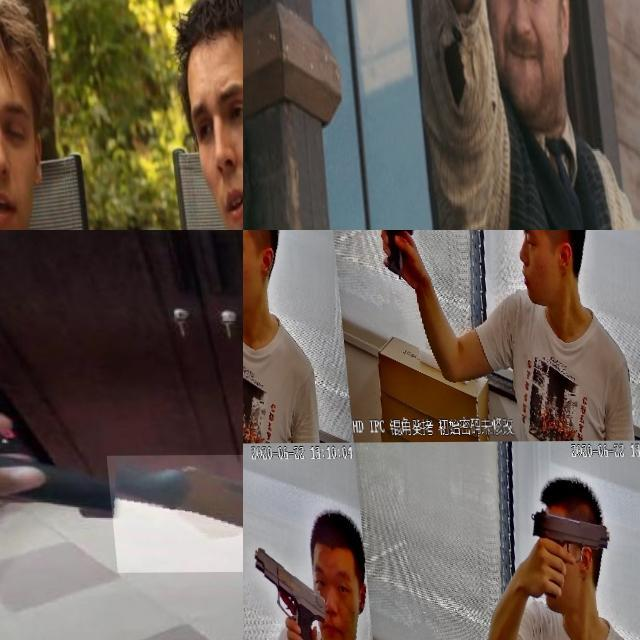-: (102, 454, 243, 573), (0, 46, 44, 230)
gun-knife-thesis - v11 Yolov5 augmented: (403, 0, 523, 162), (510, 502, 602, 612), (243, 539, 318, 640), (347, 230, 415, 286), (243, 230, 272, 295)
